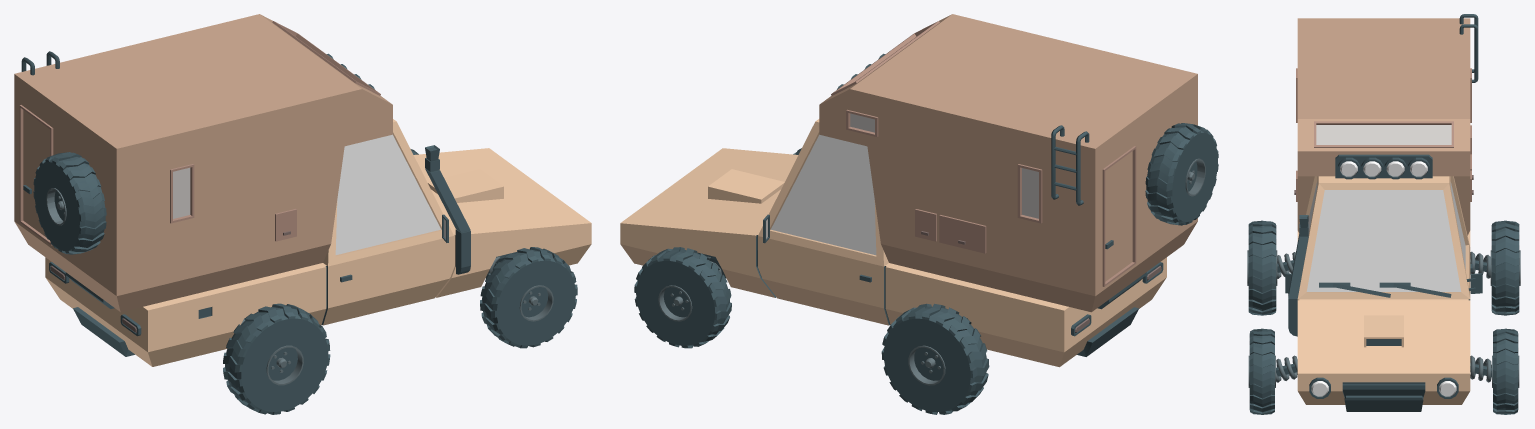
File: newCar.gltf
The picture shows the model from 3 angles, left to right: view 1: azimuth 30°, elevation 25°; view 2: azimuth 150°, elevation 25°; view 3: azimuth 270°, elevation 25°; orthographic projection. The views are drawn at different scales.
Visible parts, largest first — view 1: Spring.002, Rear_wheel_right, Front_wheel_right; view 2: Spring.002, Rear_wheel_left, Front_wheel_left; view 3: Spring.002, Rear_wheel_left, Rear_wheel_right, Front_wheel_right, Front_wheel_left.
Part boxes in pixels (x1,y1,x2,y2): Spring.002: (14, 14, 591, 366); Rear_wheel_right: (223, 303, 330, 414); Front_wheel_right: (480, 247, 577, 348); Spring.002: (620, 14, 1218, 367); Rear_wheel_left: (881, 303, 989, 414); Front_wheel_left: (634, 247, 731, 348); Spring.002: (1276, 14, 1491, 411); Rear_wheel_left: (1490, 220, 1520, 315); Rear_wheel_right: (1247, 220, 1277, 315); Front_wheel_right: (1248, 328, 1275, 414); Front_wheel_left: (1492, 328, 1519, 414).
Size of what is drawn, in the model's own units: 5.75 by 3.14 by 3.16.
